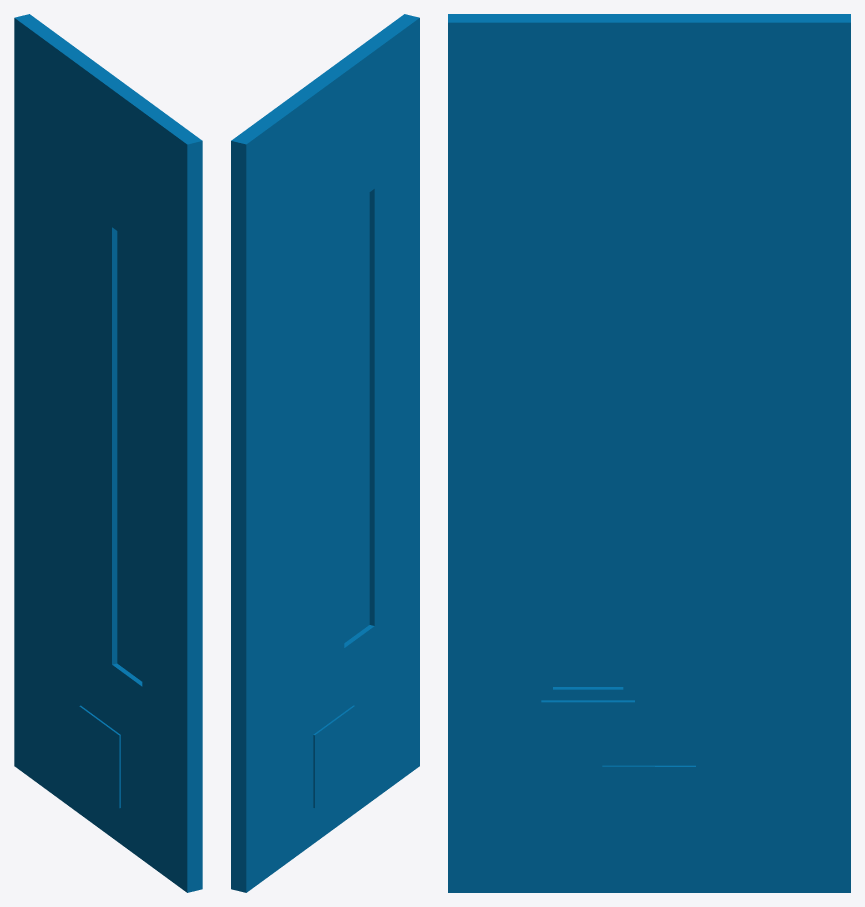
File: MainDoor1aTransformed1.fbx
3 views of the same model, side by side, from view 1: azimuth 30°, elevation 25°; view 2: azimuth 150°, elevation 25°; view 3: azimuth 270°, elevation 25° (orthographic). The views are drawn at different scales.
Parts seen in each view (by area): view 1: HB_Door_Concept_Int_Dbl_Solid_VP_- DT-04 (with Grille):ND9 -; view 2: HB_Door_Concept_Int_Dbl_Solid_VP_- DT-04 (with Grille):ND9 -; view 3: HB_Door_Concept_Int_Dbl_Solid_VP_- DT-04 (with Grille):ND9 -.
Part boxes in pixels (x1=…): HB_Door_Concept_Int_Dbl_Solid_VP_- DT-04 (with Grille):ND9 -: x1=14, y1=14, x2=202, y2=892; HB_Door_Concept_Int_Dbl_Solid_VP_- DT-04 (with Grille):ND9 -: x1=231, y1=14, x2=419, y2=892; HB_Door_Concept_Int_Dbl_Solid_VP_- DT-04 (with Grille):ND9 -: x1=448, y1=14, x2=850, y2=892.
Size of the model in its own units: 0.0545 by 2.05 by 0.8615.
